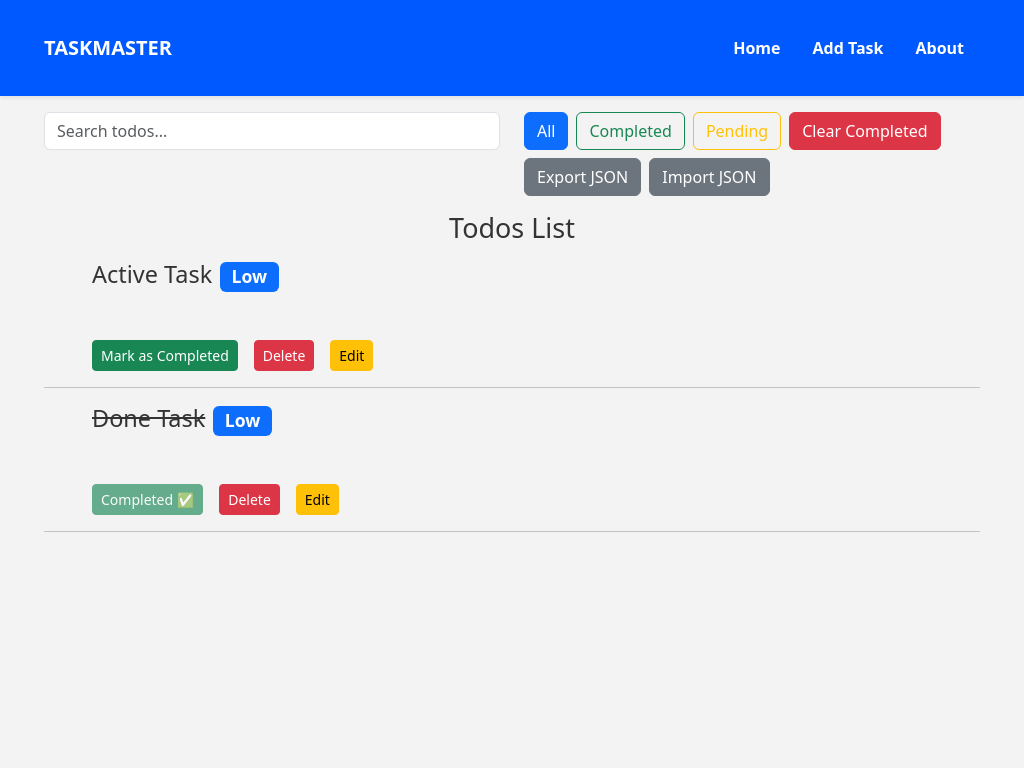
Test: App – Filtering › shows only completed todos when Completed filter is active
Click the button "Completed". click: point(631, 131)
box: [576, 112, 685, 150]
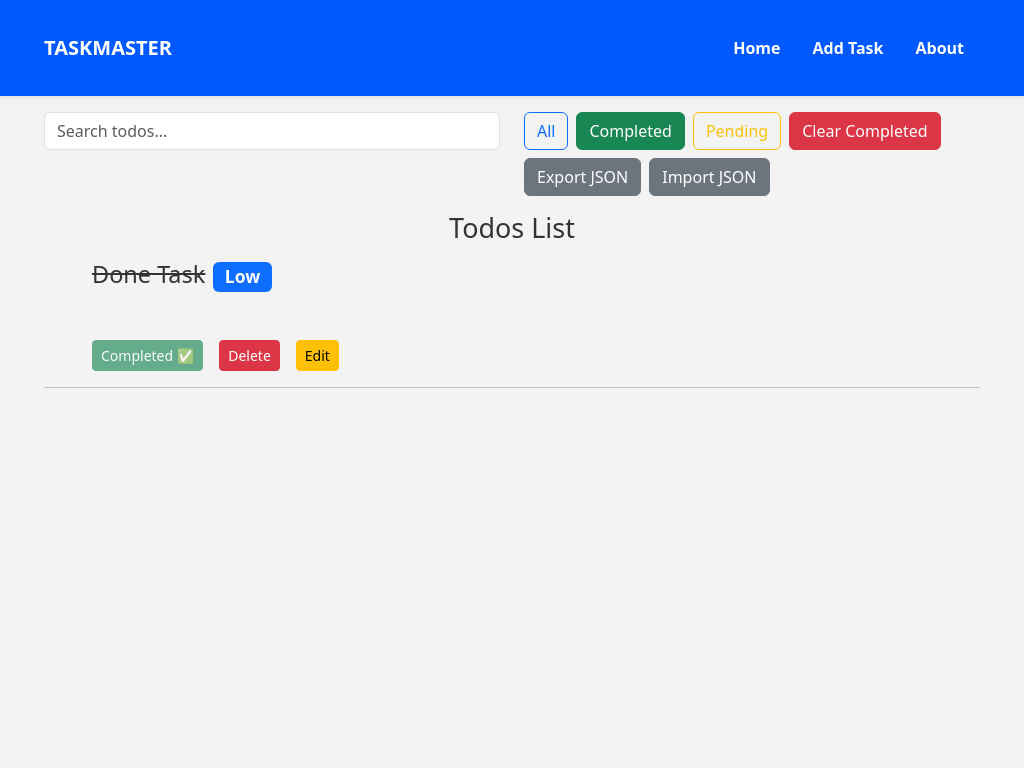
Expected: the heading "Done Task Low" is shown, [92, 258, 272, 292]
Expected: the heading "Active Task" is gone
